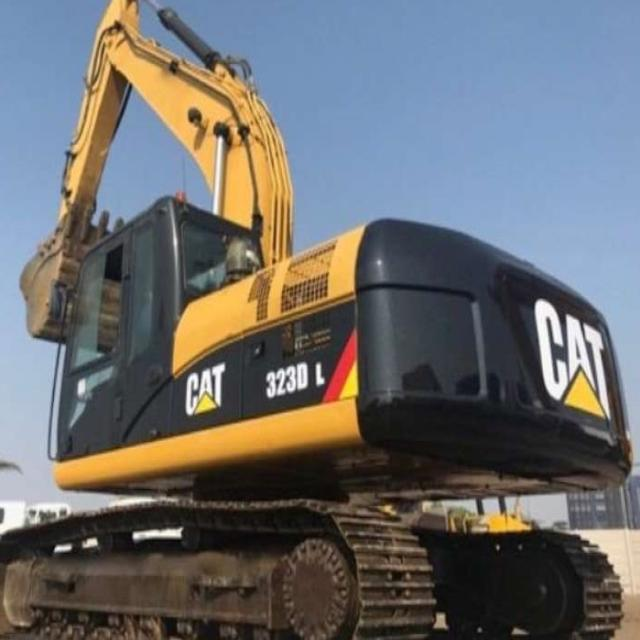excavator: (40, 194, 625, 636)
